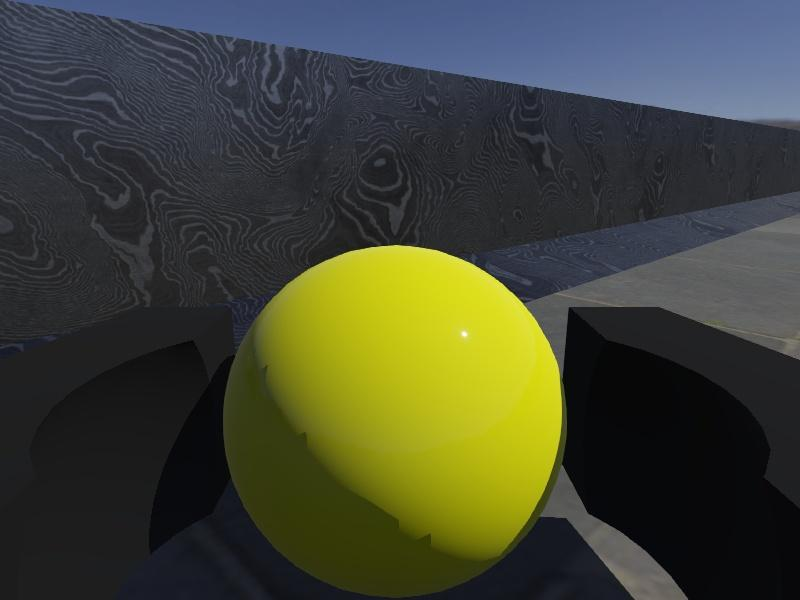yellow ball: (222, 245, 568, 600)
